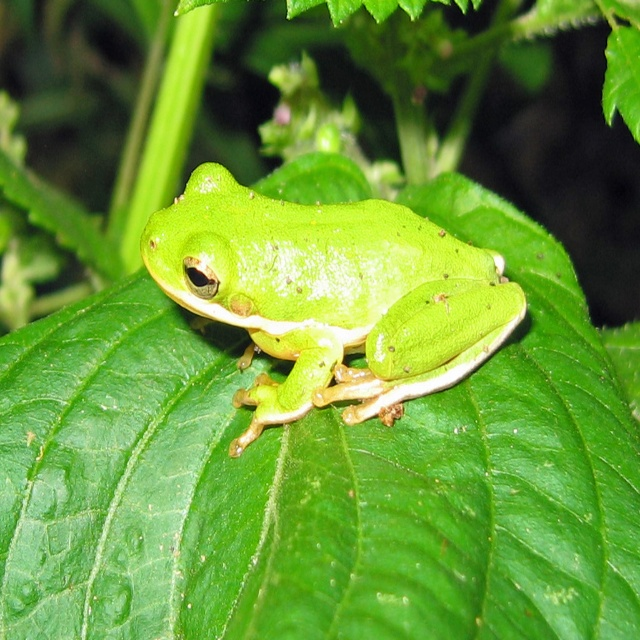Frog: (138, 162, 526, 454)
